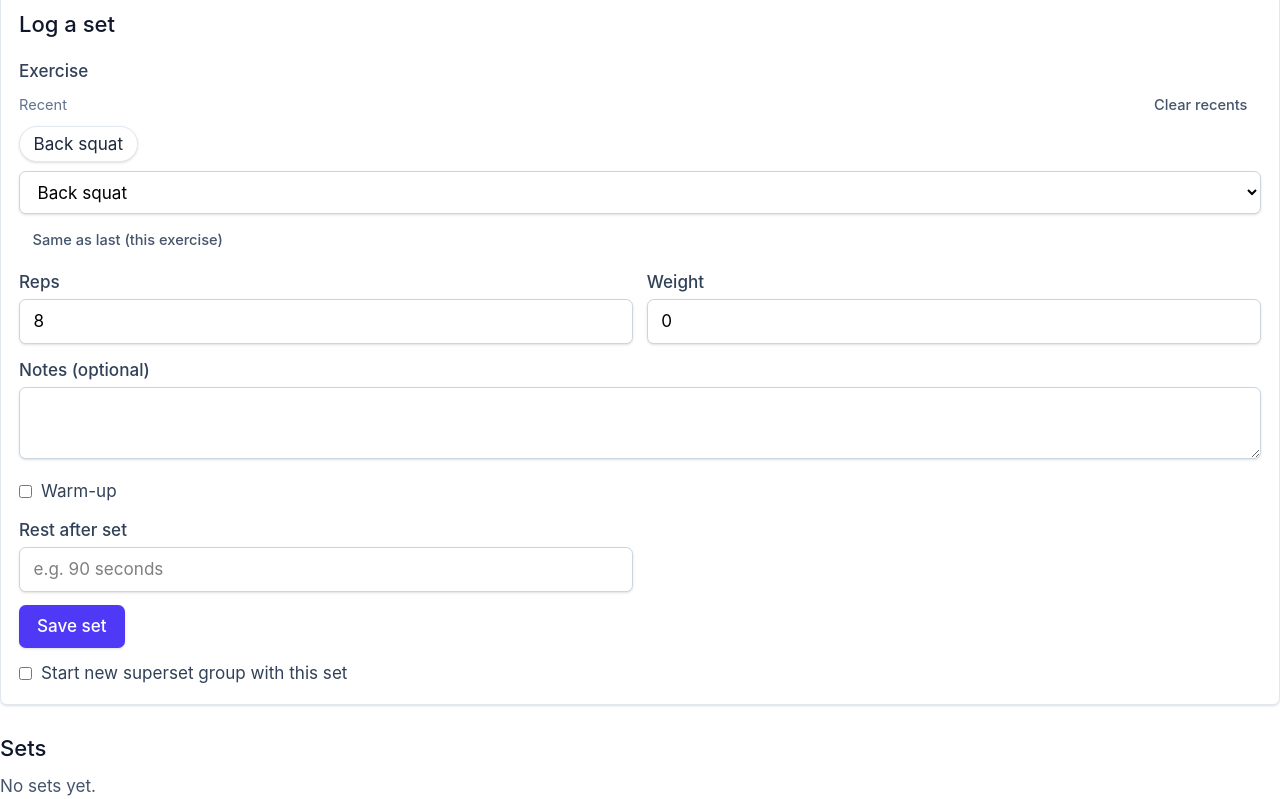
Test: WorkoutDetailPage supersets › creates and continues a superset group from set cards
The image size is (1280, 799).
(page scrolled)
What coordinates should you click on to do the following:
click the checkbox labelled "Start new superset group with this set"
I would click on:
 (26, 674)
Its box is [19,667,32,680].
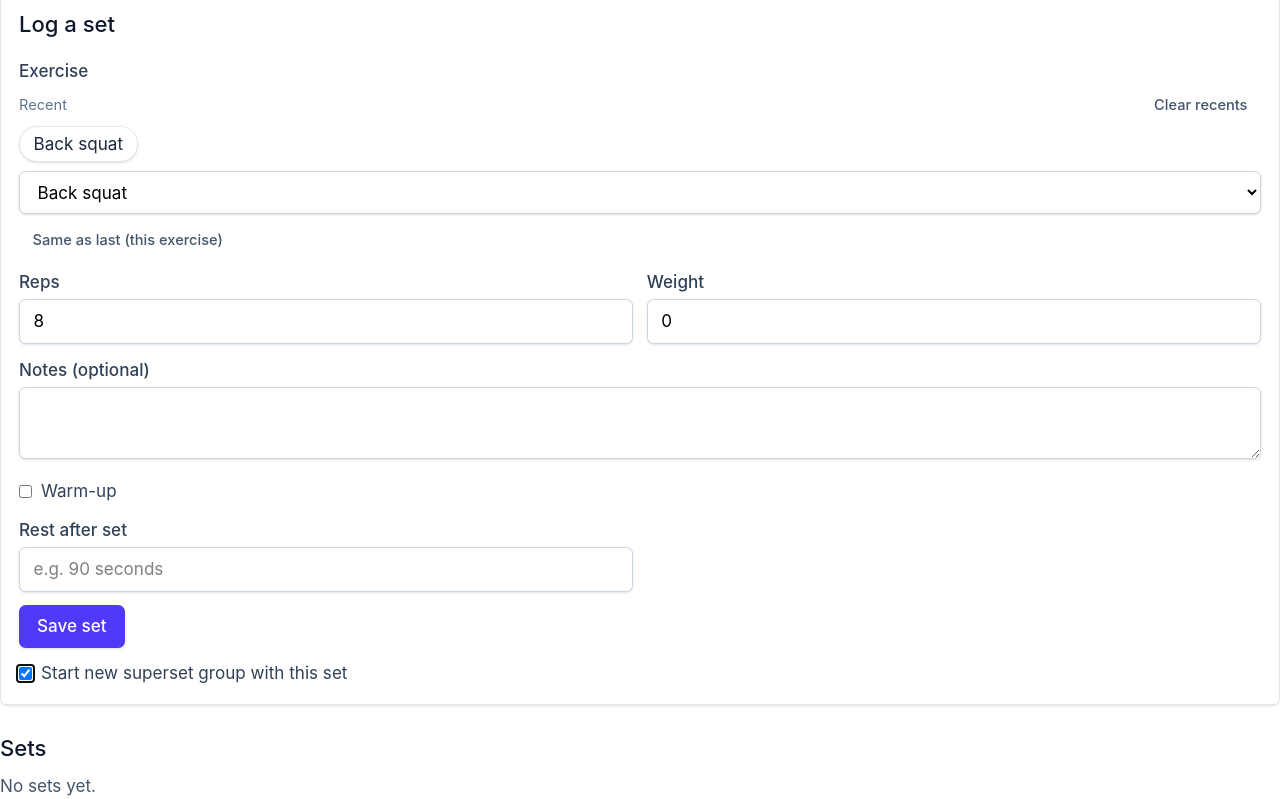
What coordinates should you click on to do the following:
click the button "Save set"
I would click on:
 (72, 626)
Its box is [19,605,125,648].
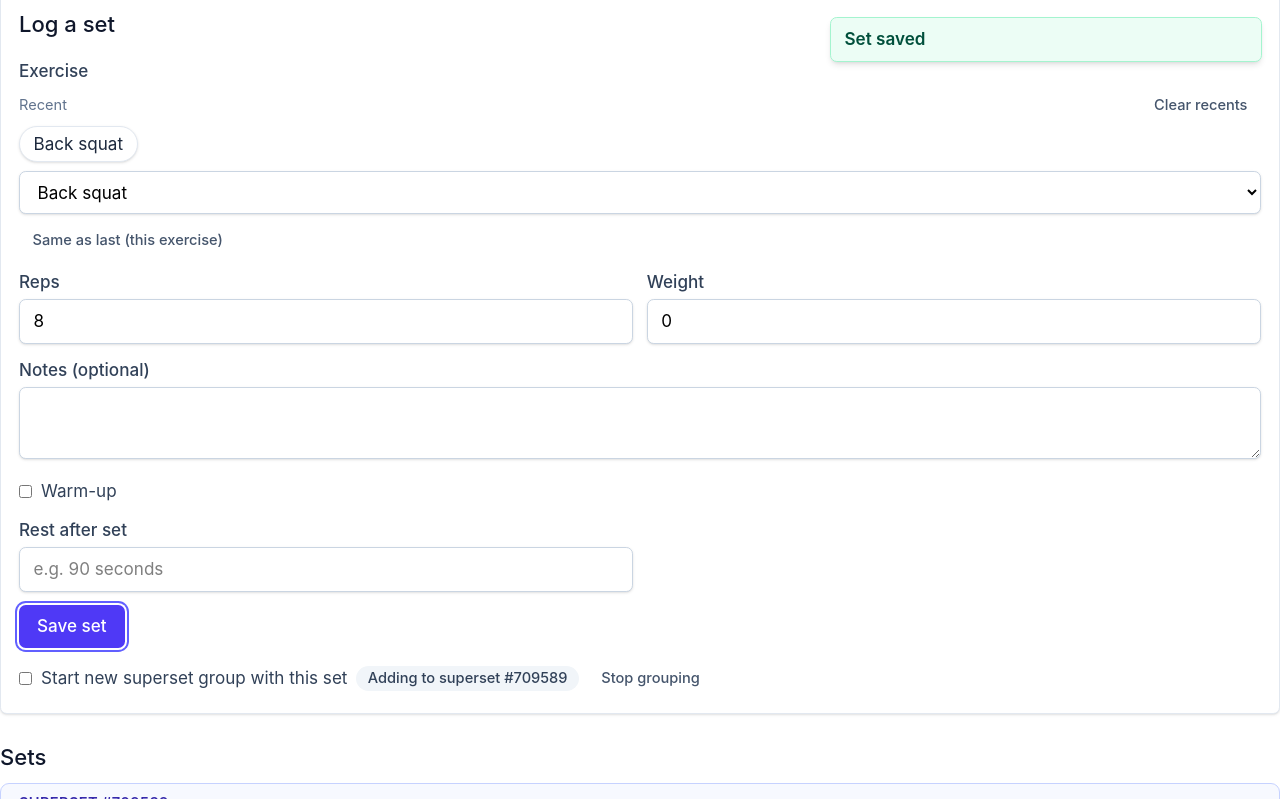
What coordinates should you click on to do the following:
click the button "Stop grouping"
I would click on:
 (651, 678)
Its box is [588,661,713,695].
(page scrolled)
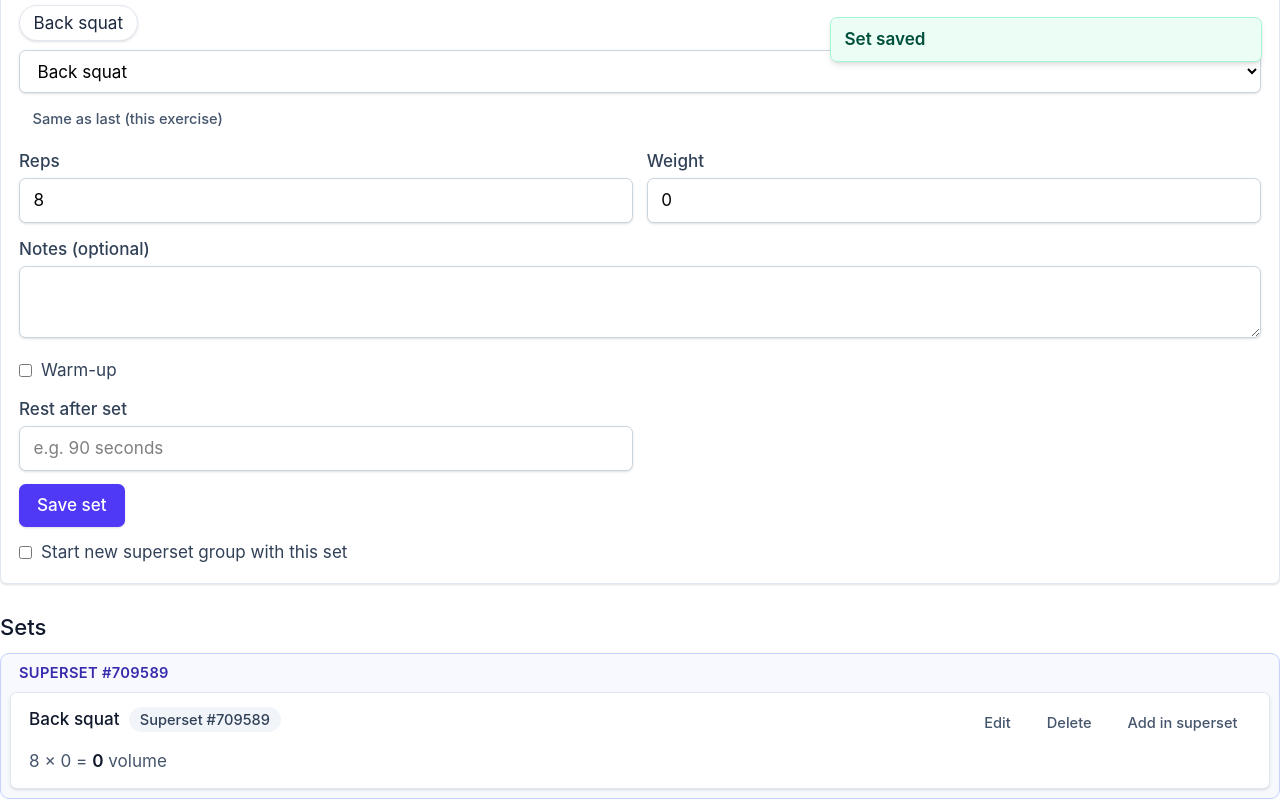
What coordinates should you click on to do the following:
click the button "Add in superset"
I would click on:
 (1183, 724)
Its box is [1114,707,1251,740].
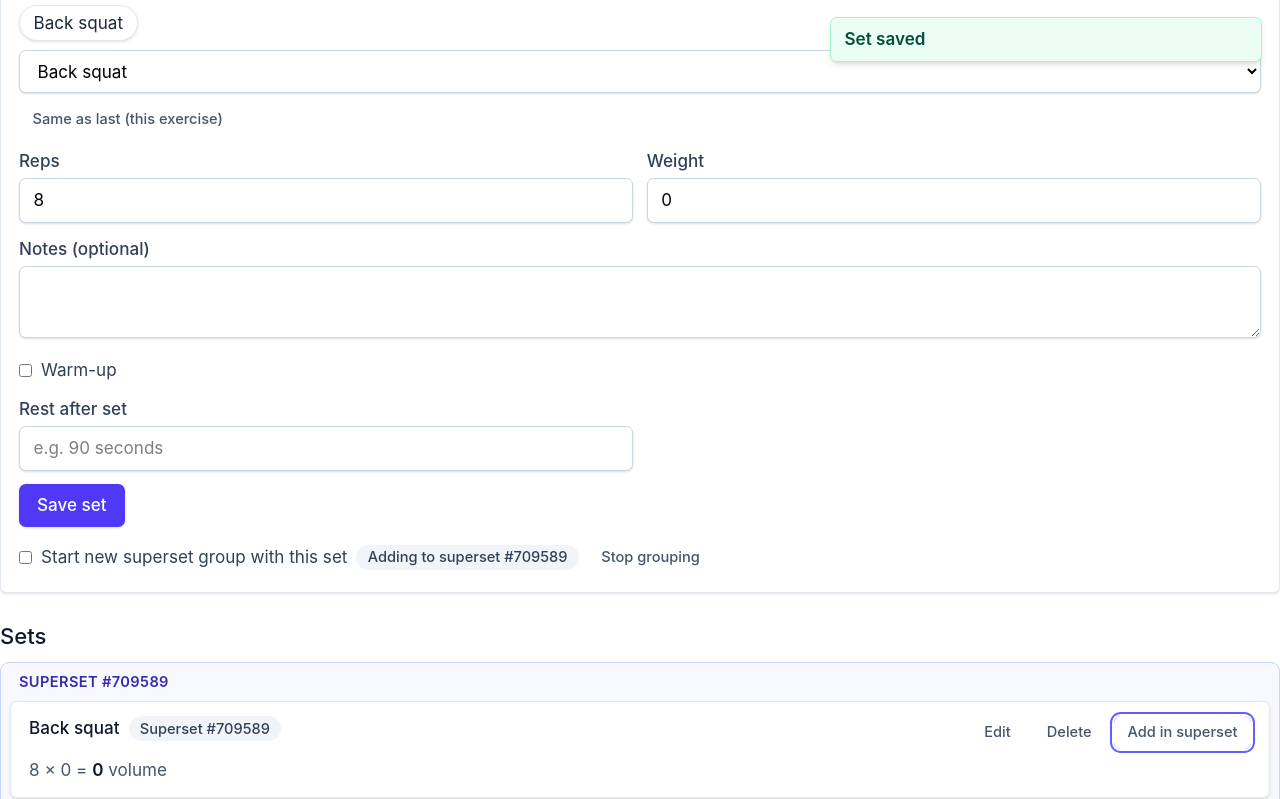
Expected: the text "Adding to superset #709589" is shown, [356,545,579,570]
What coordinates should you click on to do the following:
click the button "Save set"
I would click on:
 (72, 506)
Its box is [19,484,125,527].
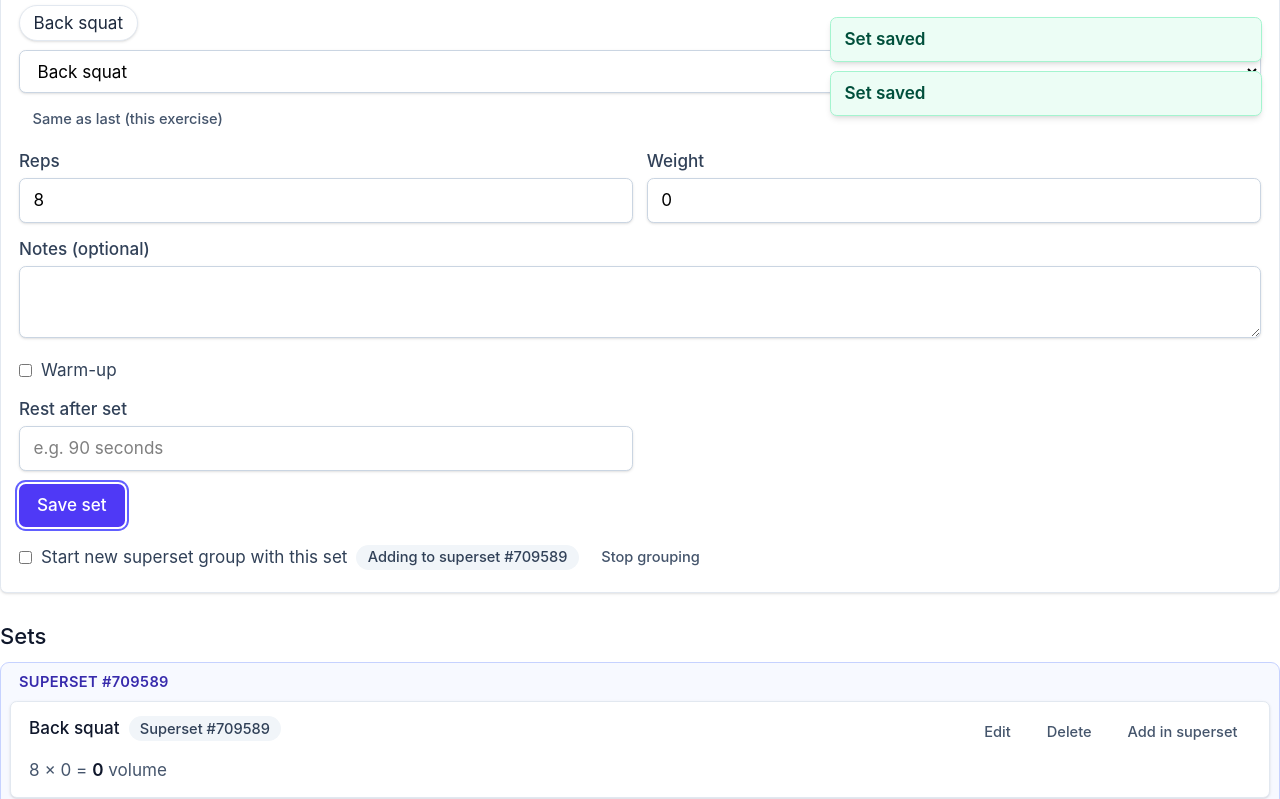
Expected: the number of buttons "Add in superset" is 2
